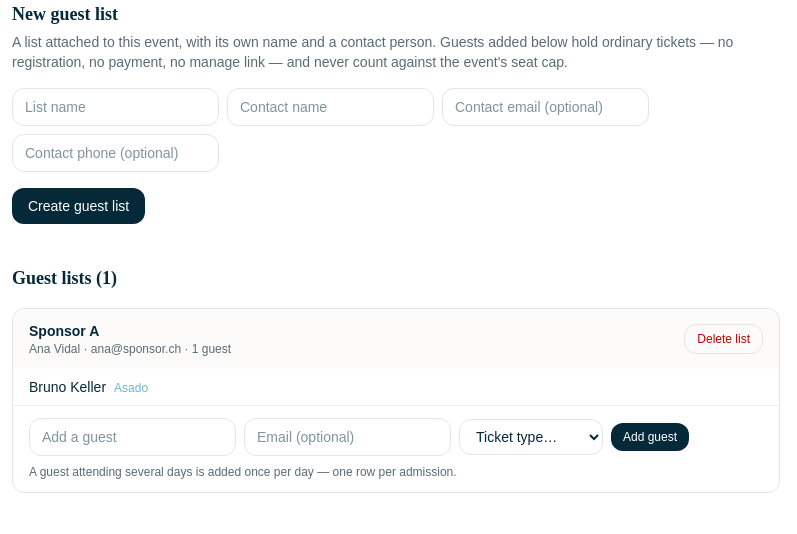
Test: GuestList — adding a guest to an existing list › requires a name before submitting
Select "Child" in the dropdown named "Guest ticket type" at (531, 437), box [459,419,603,455]
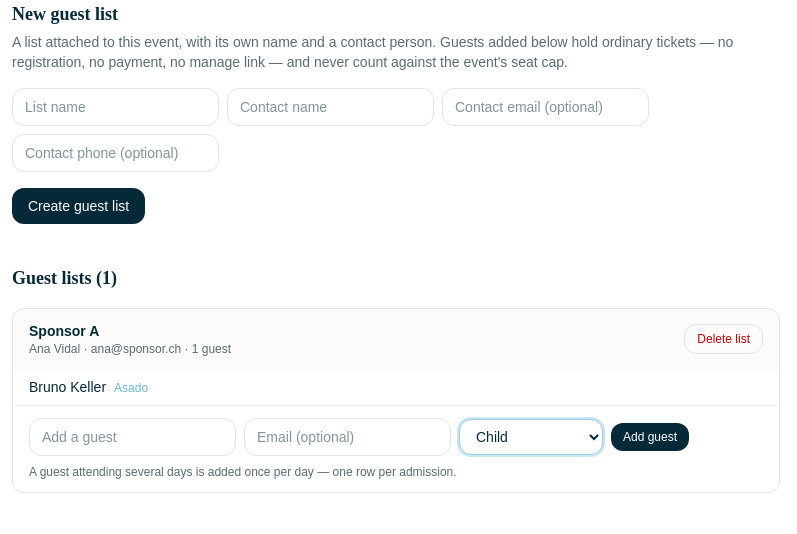
Click the button "Add guest".
click(650, 437)  # box [611,423,689,451]
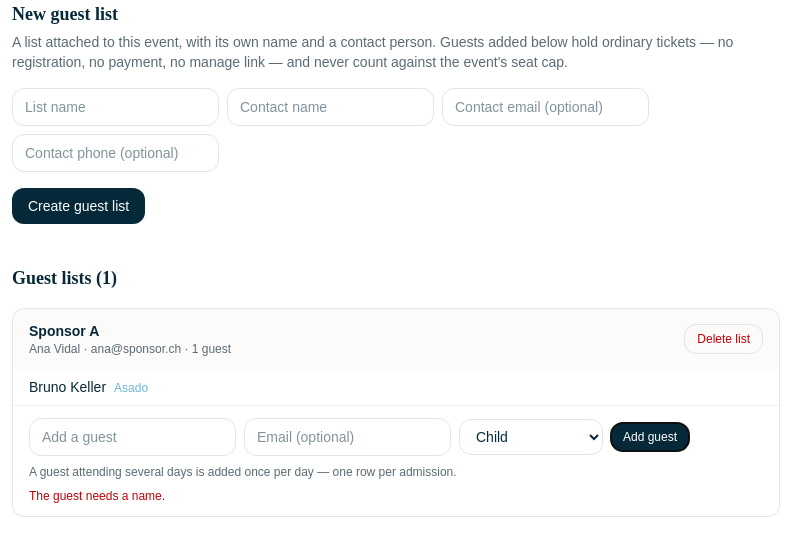
Result: the text "The guest needs a name." is shown at [29,489,165,503]
